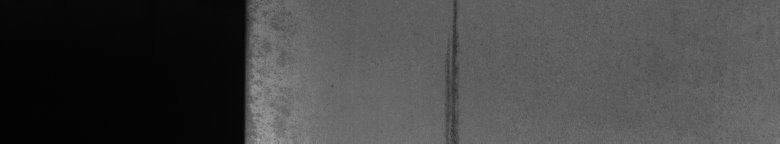hd: (440, 4, 464, 136)
